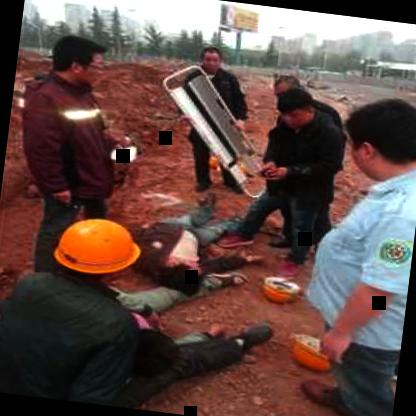head: (335, 88, 416, 182), (42, 30, 114, 94), (155, 253, 212, 296), (270, 86, 314, 132), (193, 42, 228, 74)
helmet: (47, 212, 152, 289)
